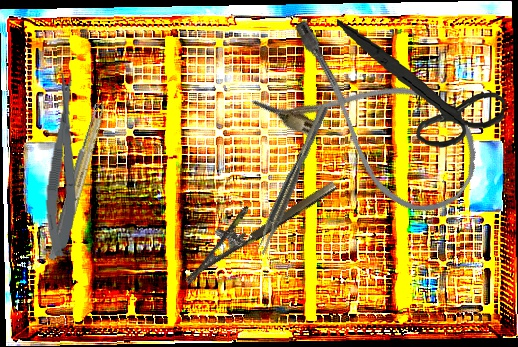Cannula: (245, 12, 499, 230)
Iris Scissors: (328, 17, 511, 153)
Micro Scissor: (41, 72, 86, 257)
Needle Holder: (169, 160, 339, 285)
Scalpel Handle: (57, 99, 108, 248)
Surgical Spoon: (48, 101, 101, 261)
Tissue Forceps: (252, 104, 334, 256)
